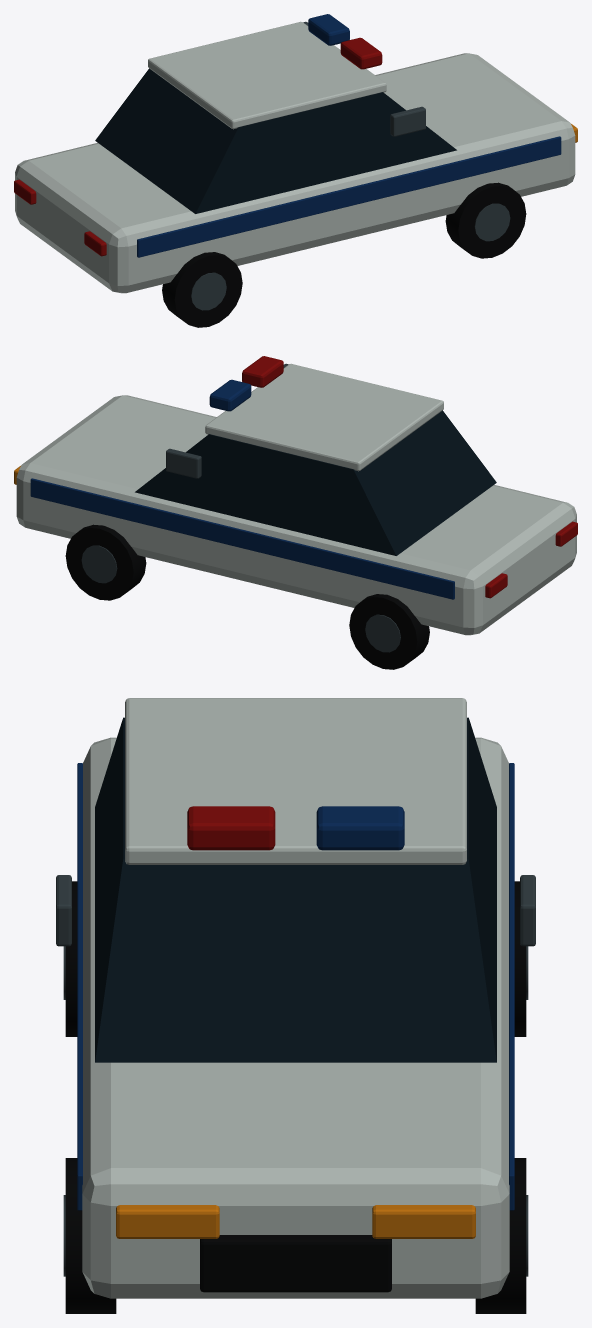
The model's file is PoliceCar.fbx.
3 renders of one model, top to bottom at view 1: azimuth 30°, elevation 25°; view 2: azimuth 150°, elevation 25°; view 3: azimuth 270°, elevation 25°, orthographic. The views are drawn at different scales.
Visible parts, largest first — view 1: PoliceCar; view 2: PoliceCar; view 3: PoliceCar.
Part boxes in pixels (left/top/right/bottom): PoliceCar: left=14, top=14, right=577, bottom=327; PoliceCar: left=14, top=356, right=577, bottom=669; PoliceCar: left=56, top=698, right=535, bottom=1313.
Size of the model in its own units: 479 by 208 by 193.
